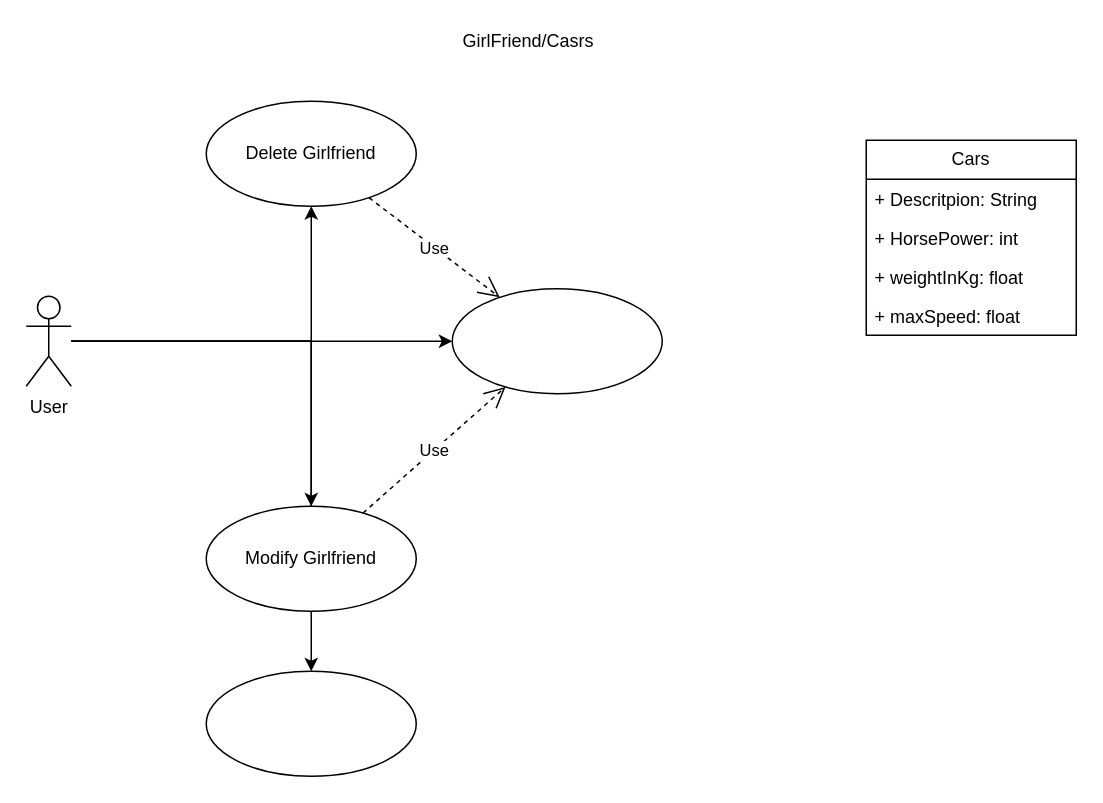
The diagram is 1103 pixels wide and 803 high, and some of its shapes have lost their labels. Each missing label, with the centre of its shape:
"Add GitrlFriend" belongs at (x=310, y=723).
"List Girlfriend" belongs at (x=556, y=340).
